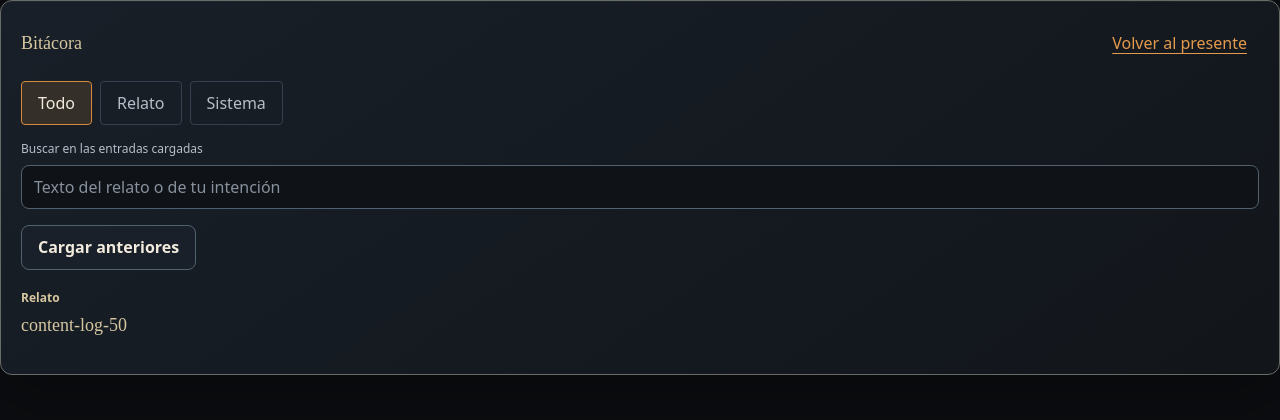
Test case: StoryLog — load older control › shows a recoverable error and keeps the control when the fetch fails, and allows retry
Click the button "Cargar anteriores". click: {"x": 109, "y": 248}
box: [21,225,196,270]
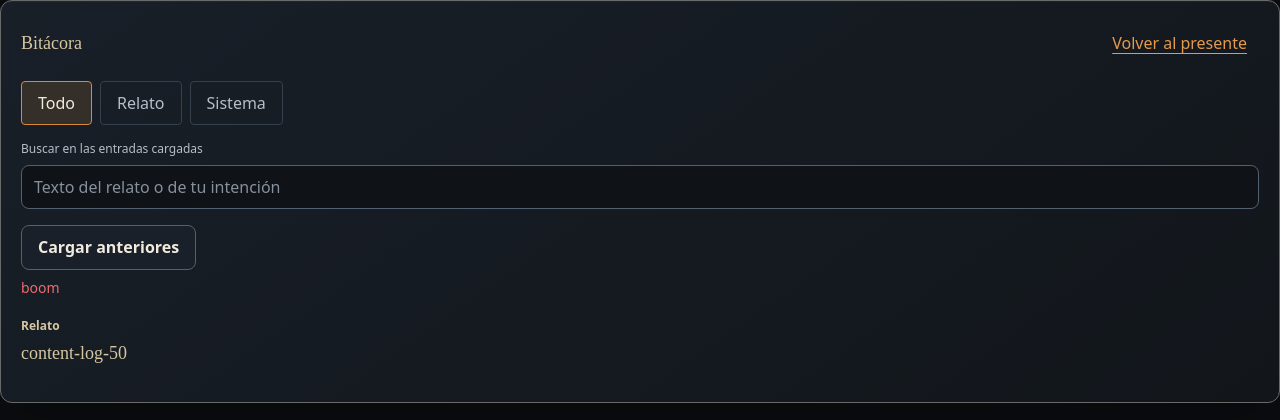
Expected: the text "boom" is shown, [21,278,60,298]
Note: Retry succeeds.
Click the button "Cargar anteriores". click: {"x": 109, "y": 248}
box: [21,225,196,270]
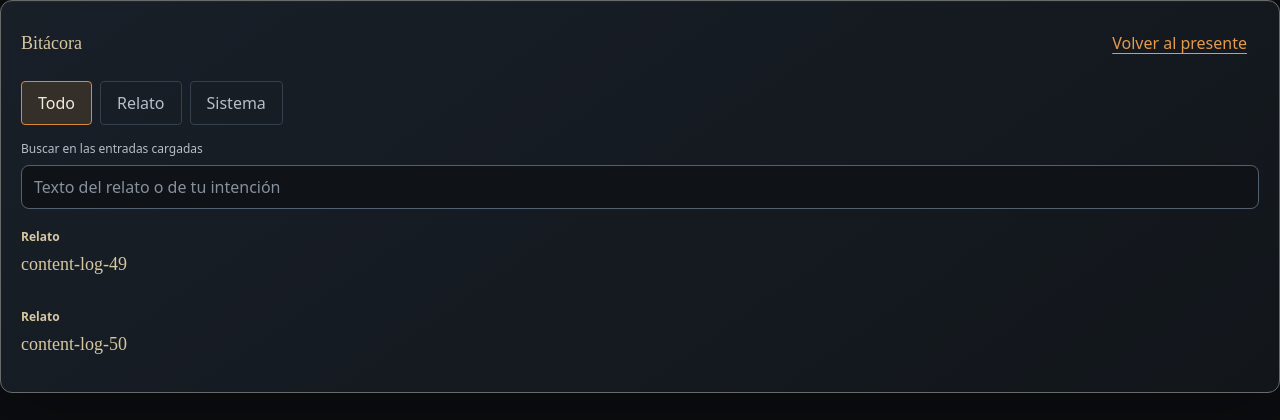
Expected: the text "boom" is gone
